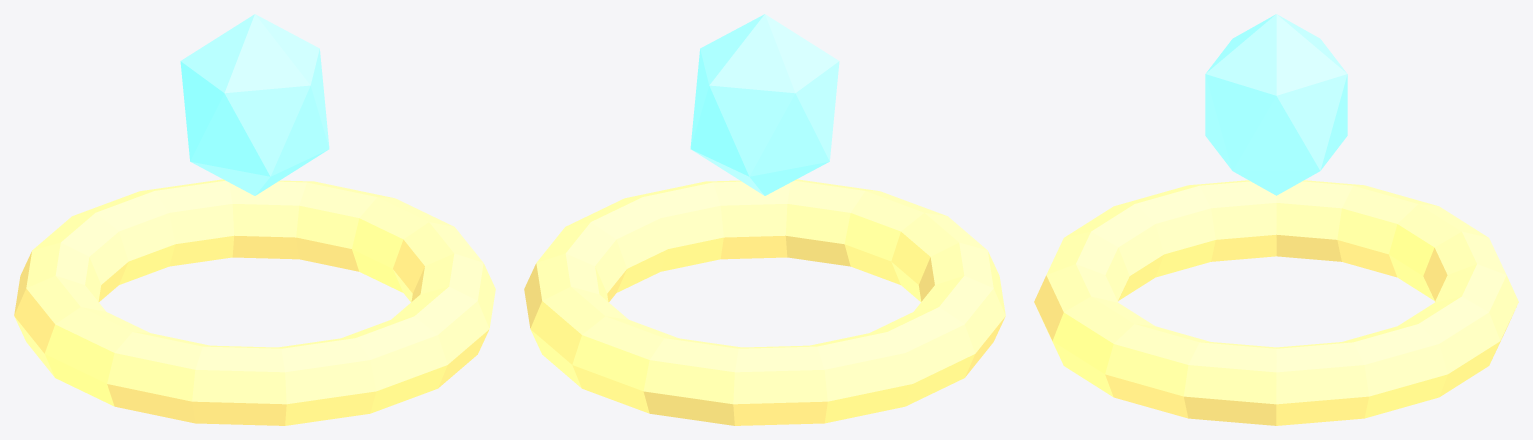
File: ring.glb
3 renders of one model, left to right at view 1: azimuth 30°, elevation 25°; view 2: azimuth 150°, elevation 25°; view 3: azimuth 270°, elevation 25°, orthographic.
Parts seen in each view (by area): view 1: RingBand; view 2: RingBand; view 3: RingBand.
Part boxes in pixels (bbox=[...]): RingBand: bbox=[14, 14, 495, 425]; RingBand: bbox=[524, 14, 1005, 425]; RingBand: bbox=[1034, 14, 1518, 425].
Bounding box in the file's own units: 0.58 × 0.43 × 0.58.
